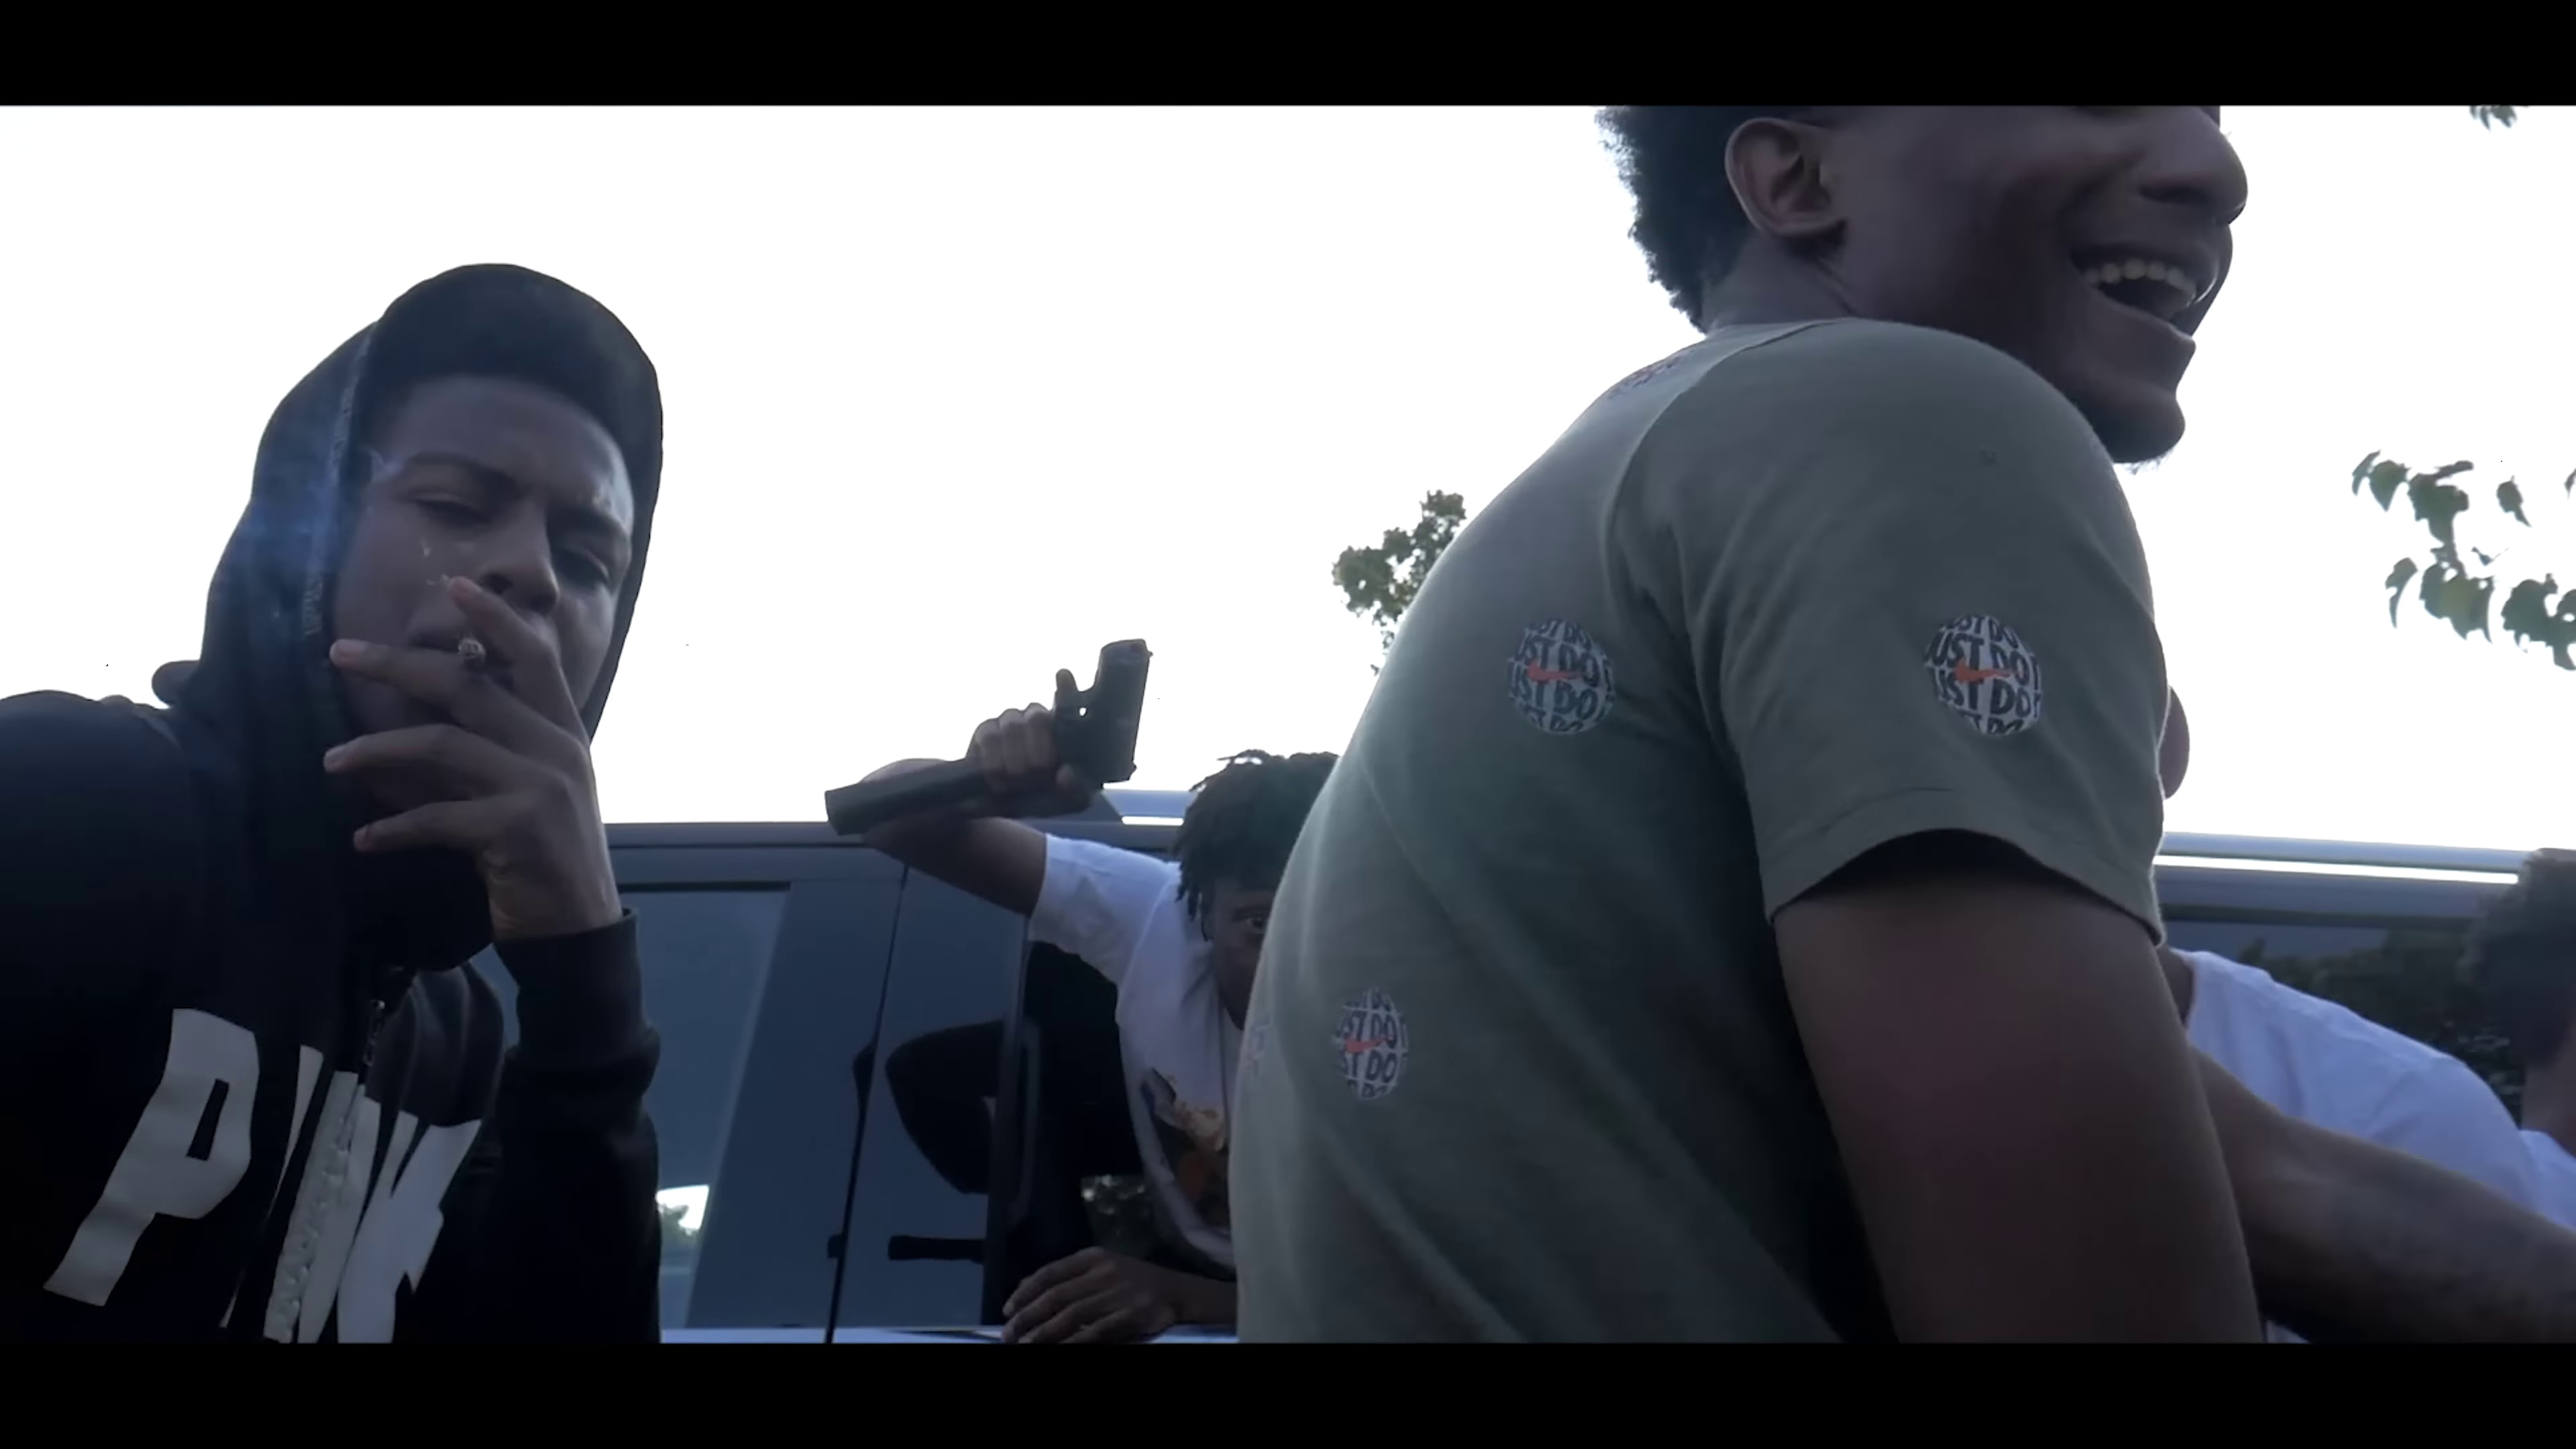gun: (830, 637, 1162, 849)
p_w_gun: (817, 626, 1382, 1341)
p_wo_gun_carrying_another_object: (0, 258, 701, 1350)
p_wo_gun_not_carrying_normal_pose: (1208, 101, 2289, 1350)
